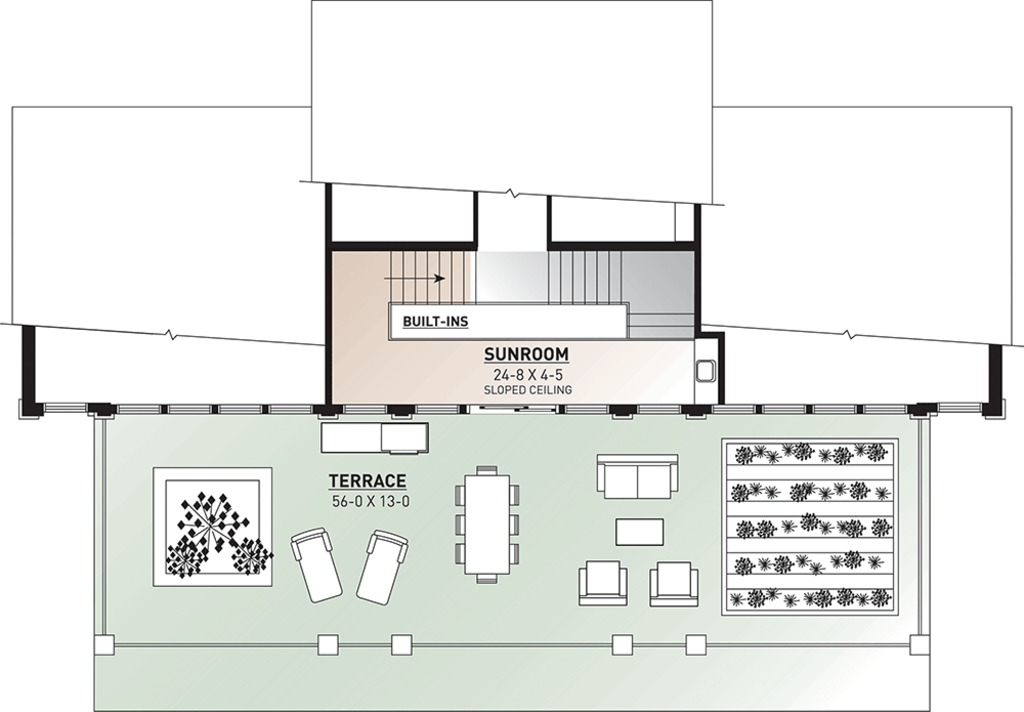dining_table: (450, 459, 526, 589)
large_sofa: (592, 455, 680, 501)
small_sofa: (354, 525, 407, 606), (289, 528, 342, 601), (647, 558, 701, 613), (575, 559, 630, 610)
stairs: (382, 253, 630, 308)
windows: (108, 402, 319, 422), (706, 402, 913, 419), (340, 401, 462, 419), (564, 400, 681, 418)
